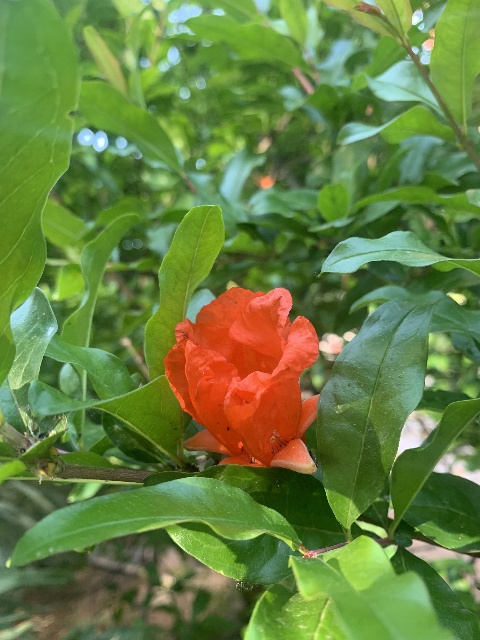flower: (163, 285, 320, 474)
